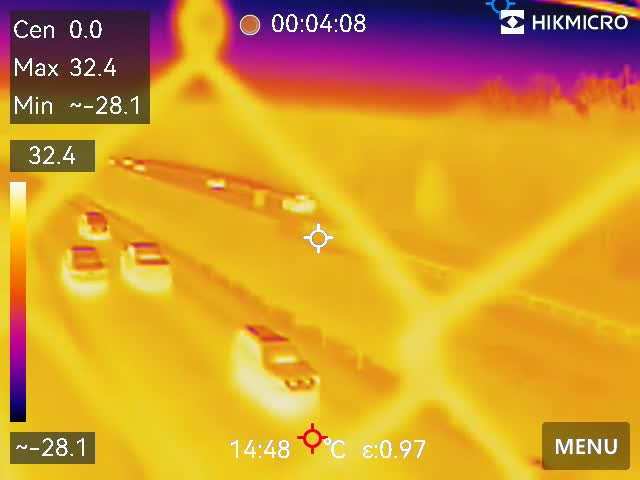largeCar: (231, 320, 322, 398)
vehicle: (113, 245, 176, 292), (64, 242, 112, 285), (72, 208, 120, 247), (279, 187, 322, 214), (205, 167, 227, 196), (132, 157, 147, 175), (121, 155, 134, 167)
